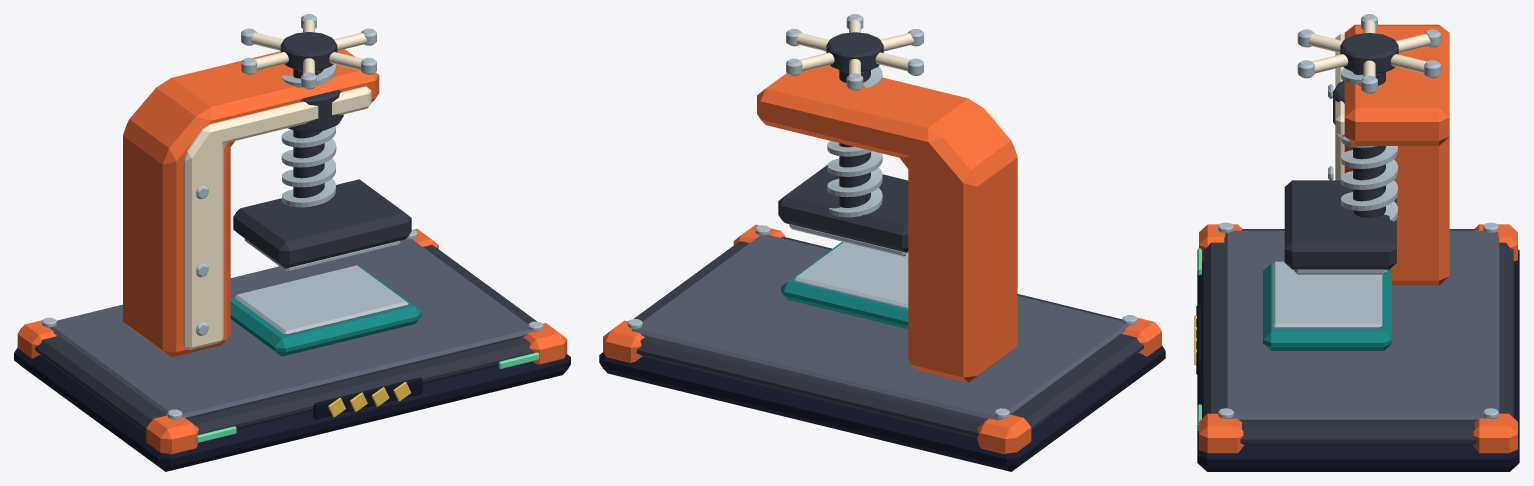
The model's file is ScrewStamper.fbx.
3 views of the same model, side by side, from view 1: azimuth 30°, elevation 25°; view 2: azimuth 150°, elevation 25°; view 3: azimuth 270°, elevation 25° (orthographic). The views are drawn at different scales.
Visible parts, largest first — view 1: Frame, Shoe, Handle, Screw; view 2: Frame, Shoe, Handle, Screw; view 3: Frame, Shoe, Handle, Screw.
Part boxes in pixels (x1,y1,x2,y2): Frame: (14, 49, 570, 471); Shoe: (233, 179, 411, 272); Handle: (241, 14, 376, 89); Screw: (281, 64, 336, 207); Frame: (599, 65, 1165, 471); Shoe: (778, 165, 908, 256); Handle: (786, 14, 923, 90); Screw: (827, 66, 882, 217); Frame: (1194, 24, 1519, 471); Shoe: (1284, 180, 1396, 274); Handle: (1297, 14, 1441, 93); Screw: (1340, 68, 1398, 221).
Size of the model in its own units: 456 by 337 by 295.
1 material, 1 textured.
